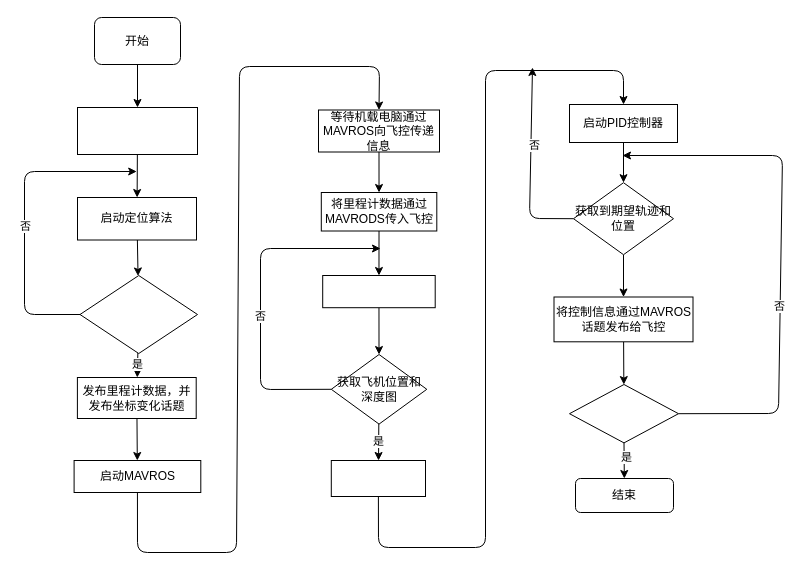
Image size: 808x578. Some labels were removed from this diagram. Each missing label, with the centre of its shape:
"发布期望轨迹" goes at (378,478).
"启动Realsense D435摄像头" goes at (137,130).
"是否达到目标点" goes at (623,413).
"等待相机的图像信息和I飞控的MU数据" goes at (138,314).
"路径规划算法" goes at (378,291).
